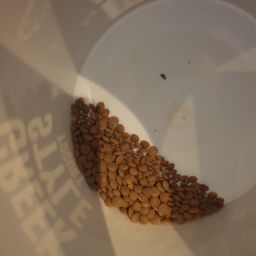Black Lentil(masoor daal): (62, 91, 227, 254)
